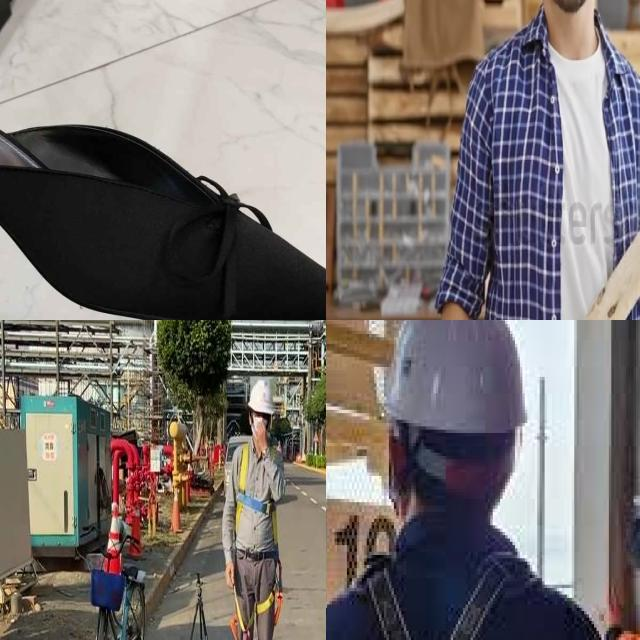Harness: (358, 554, 533, 640), (236, 444, 278, 546)
Sandals: (0, 56, 326, 320)
person: (444, 0, 640, 320)
